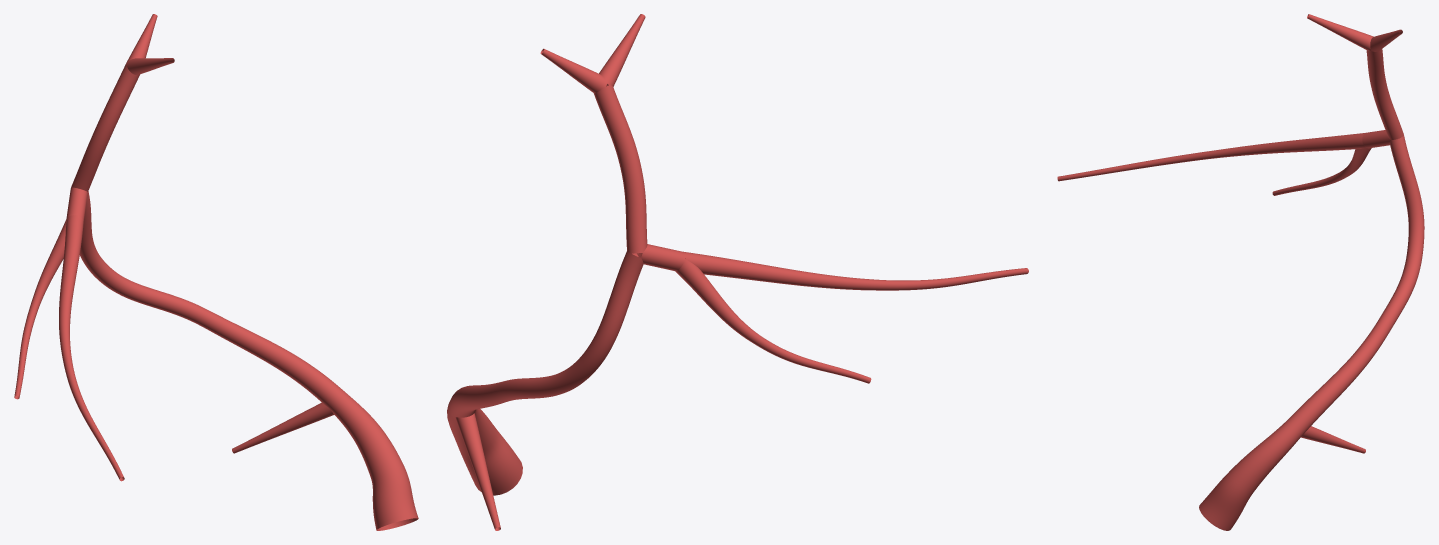
The picture shows the model from 3 angles, left to right: view 1: azimuth 30°, elevation 25°; view 2: azimuth 150°, elevation 25°; view 3: azimuth 270°, elevation 25°; orthographic projection. The views are drawn at different scales.
Parts seen in each view (by area): view 1: 右侧臀上动脉; view 2: 右侧臀上动脉; view 3: 右侧臀上动脉.
Part boxes in pixels (left/top/right/bottom): 右侧臀上动脉: left=14, top=14, right=418, bottom=530; 右侧臀上动脉: left=447, top=14, right=1028, bottom=530; 右侧臀上动脉: left=1057, top=14, right=1424, bottom=530.
Size of the model in its own units: 0.0712 by 0.0853 by 0.065.
